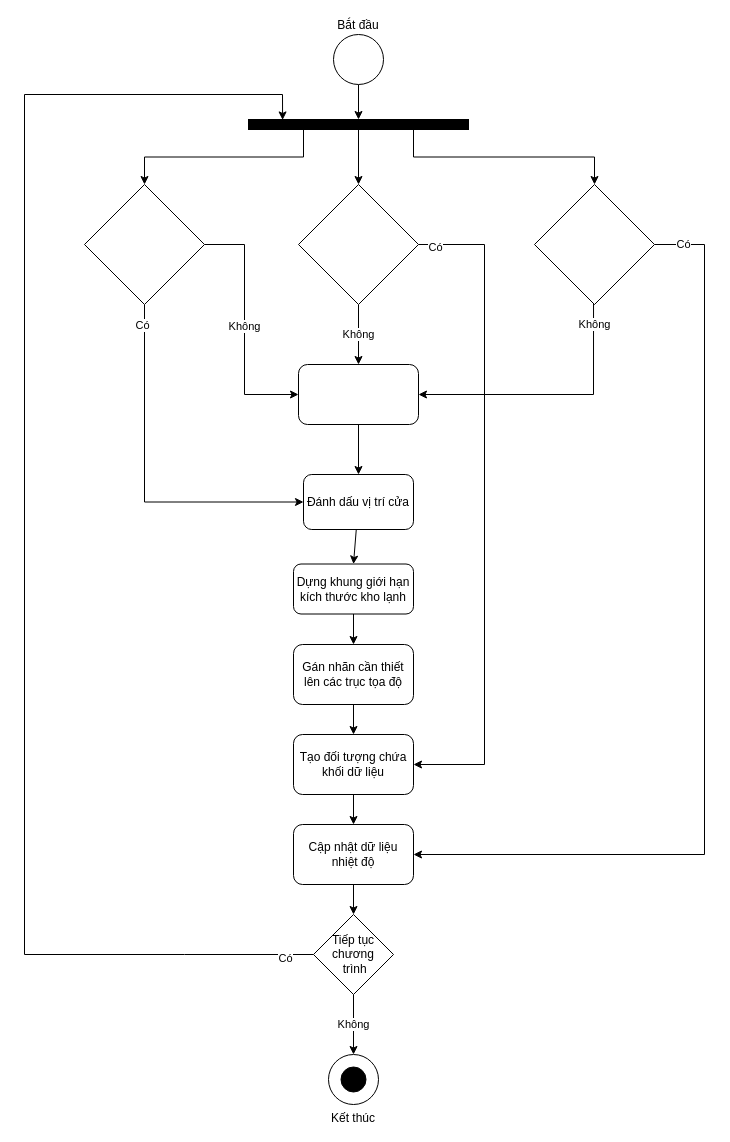
The diagram is 730 pixels wide and 1142 high, and some of its shapes have lost their labels. Each missing label, with the centre of its shape:
Dữ liệu cấu hình kho lạnh thay đổi: (x=144, y=244)
Dữ liệu cấu hình lát cắt thay đổi: (x=358, y=244)
Dữ liệu nhiệt độ thay đổi: (x=594, y=244)
Khởi tạo không gian ba chiều: (x=358, y=394)
